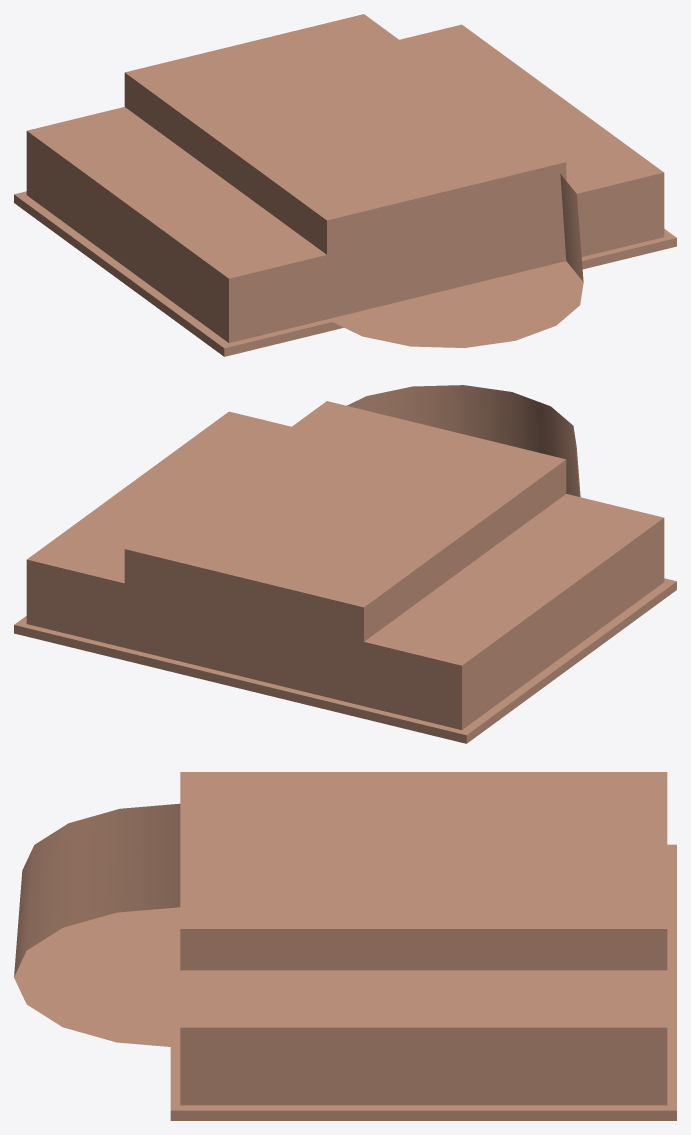
File: velian_ruins_sb_archi.glb
3 renders of one model, top to bottom at view 1: azimuth 30°, elevation 25°; view 2: azimuth 150°, elevation 25°; view 3: azimuth 270°, elevation 25°, orthographic. The views are drawn at different scales.
Parts seen in each view (by area): view 1: Tectonic_basilica_hall; view 2: Tectonic_basilica_hall; view 3: Tectonic_basilica_hall.
Boxes of the visible parts, x1,y1,x2,y2 form: Tectonic_basilica_hall: (14, 14, 676, 356); Tectonic_basilica_hall: (14, 385, 676, 743); Tectonic_basilica_hall: (14, 772, 676, 1120).
Size of the model in its own units: 174 by 39.4 by 183.
